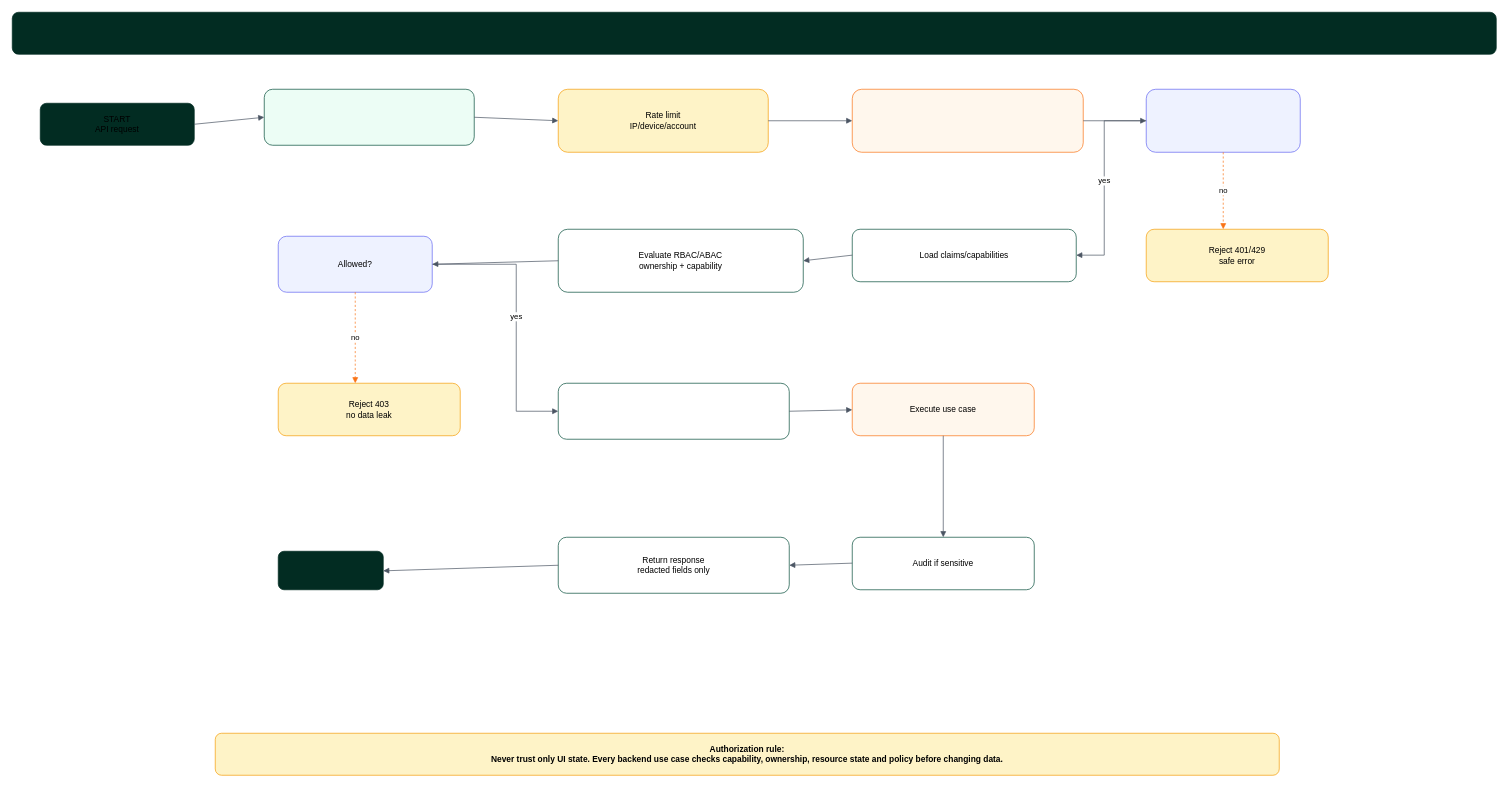
Some shapes in this 1509 by 788 pixel diagram are drawn without their labels. The shapes that lost their labels are listed below. From the top down, each one's centre as x and y in pixels, then its label:
pixel 754 33: Viaverse Auth / Authorization / Rate Limit — Activity Diagram
pixel 369 117: TLS + WAF / edge checks
pixel 967 120: Validate token signature/expiry/audience
pixel 1223 120: Valid token?
pixel 673 411: Create security context correlationId
pixel 330 570: END
